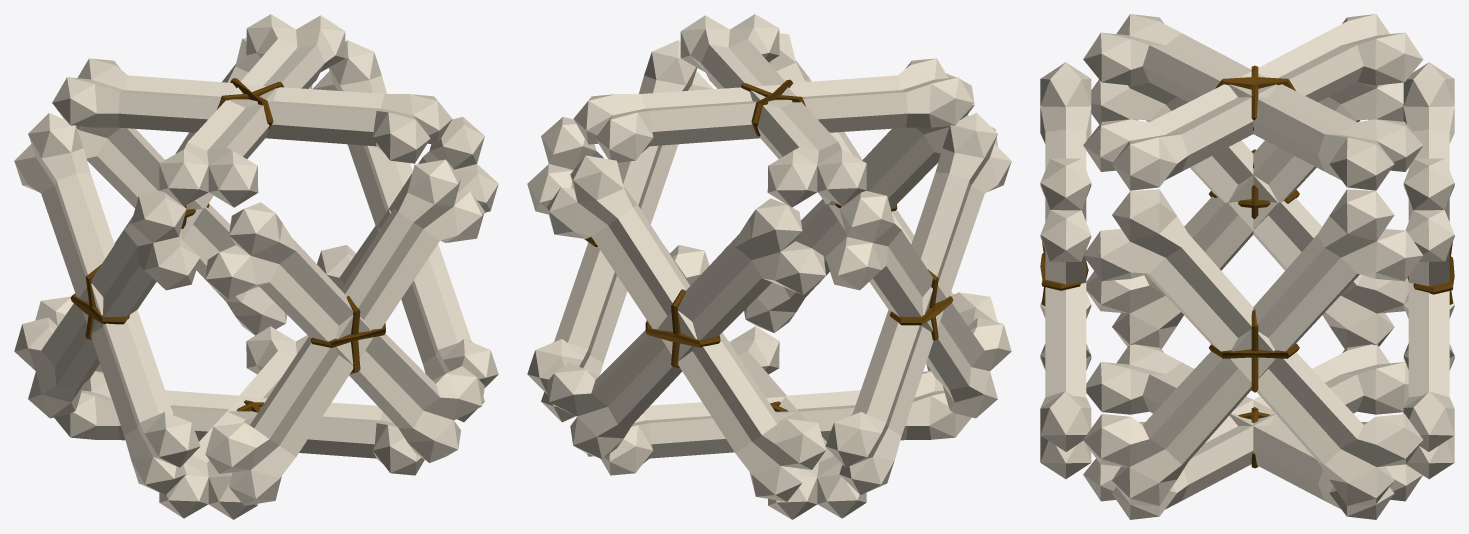
The model's file is bone.glb.
3 renders of one model, left to right at view 1: azimuth 30°, elevation 25°; view 2: azimuth 150°, elevation 25°; view 3: azimuth 270°, elevation 25°, orthographic. The views are drawn at different scales.
Parts seen in each view (by area): view 1: Cylinder, Cylinder.001, Cylinder.002; view 2: Cylinder, Cylinder.001, Cylinder.002; view 3: Cylinder.001, Cylinder.002, Cylinder.
Part boxes in pixels (box(x1,y1,x2,y2)): Cylinder: box(35, 38, 484, 505); Cylinder.001: box(14, 40, 498, 494); Cylinder.002: box(52, 14, 452, 519); Cylinder: box(546, 33, 997, 501); Cylinder.001: box(527, 40, 1011, 494); Cylinder.002: box(573, 14, 973, 519); Cylinder.001: box(1083, 79, 1423, 505); Cylinder.002: box(1083, 14, 1423, 519); Cylinder: box(1040, 62, 1454, 479).
Bounding box in the file's own units: 4.82 × 4.82 × 4.82.
